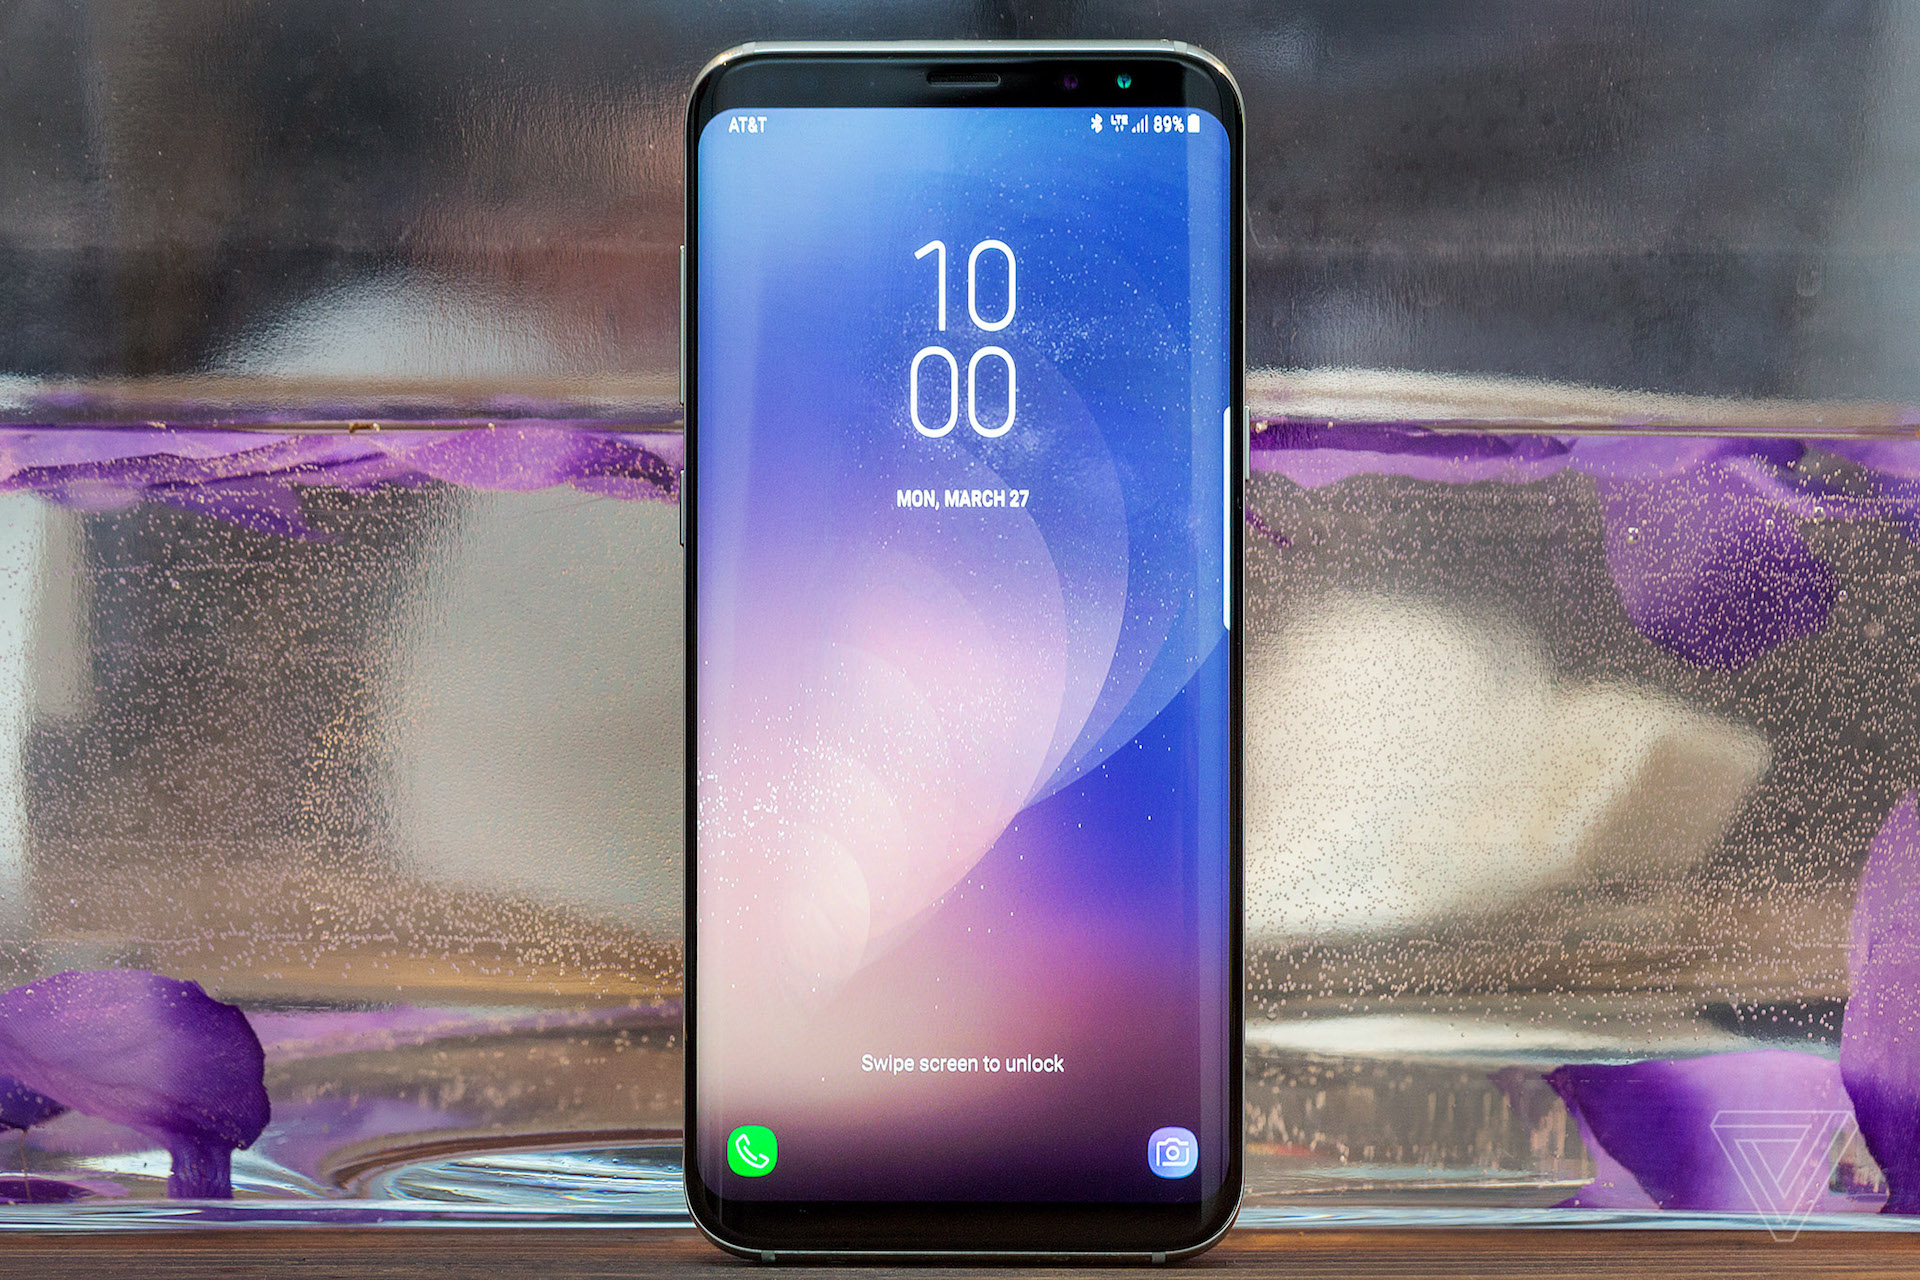smartphone: (676, 36, 1254, 1269)
